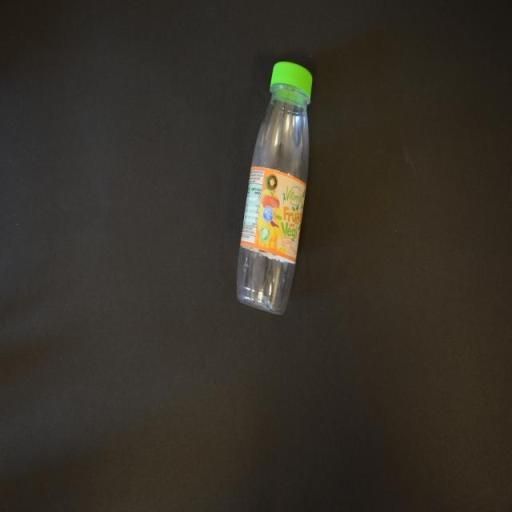plastic: (235, 59, 314, 319)
